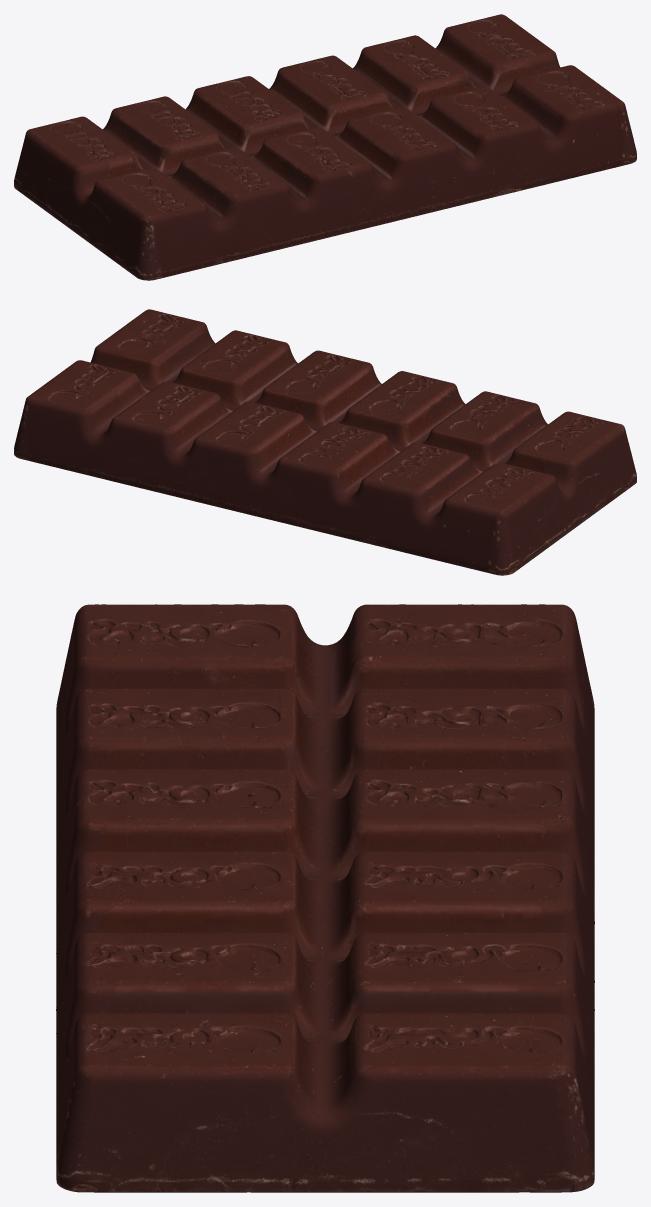
The model's file is chocolate.glb.
3 views of the same model, one above another, from view 1: azimuth 30°, elevation 25°; view 2: azimuth 150°, elevation 25°; view 3: azimuth 270°, elevation 25° (orthographic). The views are drawn at different scales.
Size of the model in its own units: 1.9 by 0.2094 by 0.8887.
1 material, 1 textured.
